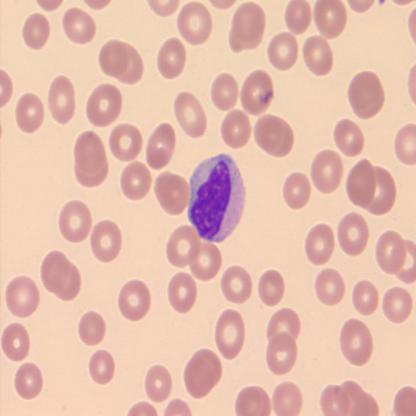Metamyelocyte: (184, 149, 250, 247)
